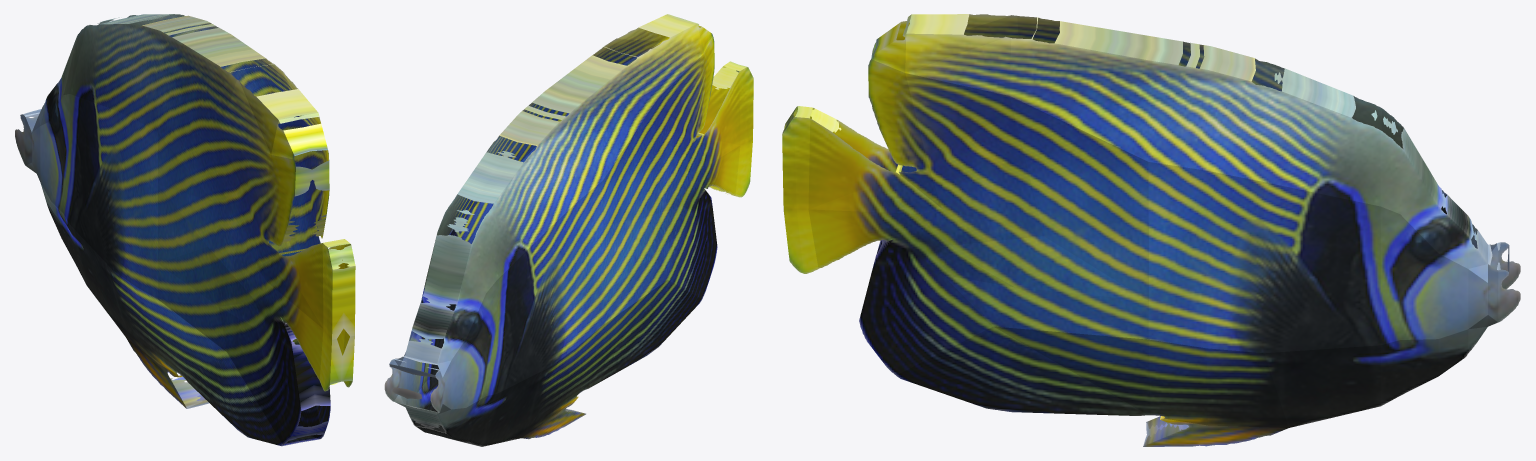
The model's file is StripeFish.obj.
3 views of the same model, side by side, from view 1: azimuth 30°, elevation 25°; view 2: azimuth 150°, elevation 25°; view 3: azimuth 270°, elevation 25° (orthographic). The views are drawn at different scales.
Visible parts, largest first — view 1: Cube; view 2: Cube; view 3: Cube.
Boxes of the visible parts, x1,y1,x2,y2 form: Cube: (15, 14, 355, 446); Cube: (384, 14, 753, 446); Cube: (782, 14, 1520, 446).
Size of the model in its own units: 0.123 by 0.4443 by 0.7379.
1 material, 1 textured.
